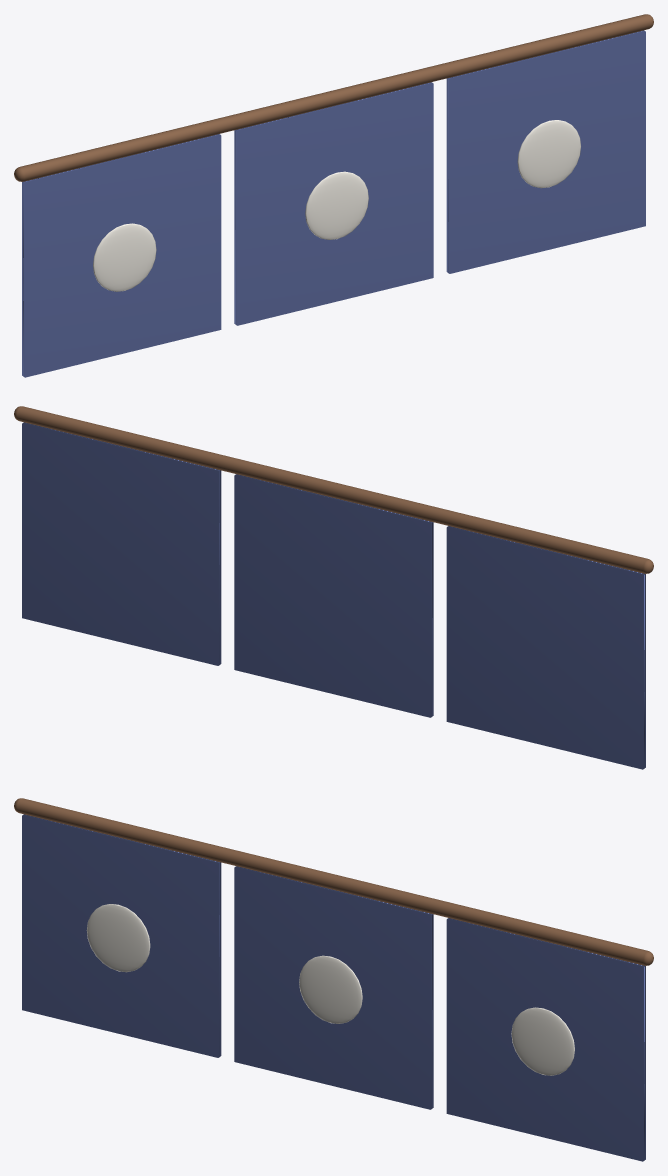
The model's file is noren.glb.
The picture shows the model from 3 angles, top to bottom: view 1: azimuth 30°, elevation 25°; view 2: azimuth 150°, elevation 25°; view 3: azimuth 330°, elevation 25°; orthographic projection.
Visible parts, largest first — view 1: cloth2, cloth0, cloth1, rod, crest2, crest1, crest0; view 2: cloth0, cloth1, cloth2, rod; view 3: cloth0, cloth2, cloth1, rod, crest0, crest1, crest2.
Boxes of the visible parts, box(x1,y1,x2,y2) form: cloth2: box(446, 30, 645, 273); cloth0: box(22, 134, 221, 377); cloth1: box(234, 82, 433, 325); rod: box(14, 14, 653, 181); crest2: box(517, 120, 581, 188); crest1: box(305, 171, 368, 239); crest0: box(93, 223, 156, 291); cloth0: box(446, 526, 645, 769); cloth1: box(234, 474, 433, 717); cloth2: box(22, 422, 221, 665); rod: box(14, 406, 653, 573); cloth0: box(22, 814, 221, 1057); cloth2: box(446, 918, 645, 1161); cloth1: box(234, 866, 433, 1109); rod: box(14, 798, 653, 965); crest0: box(86, 904, 150, 972); crest1: box(299, 955, 362, 1023); crest2: box(511, 1007, 574, 1075).
Size of the model in its own units: 2.4 by 0.755 by 0.057.
